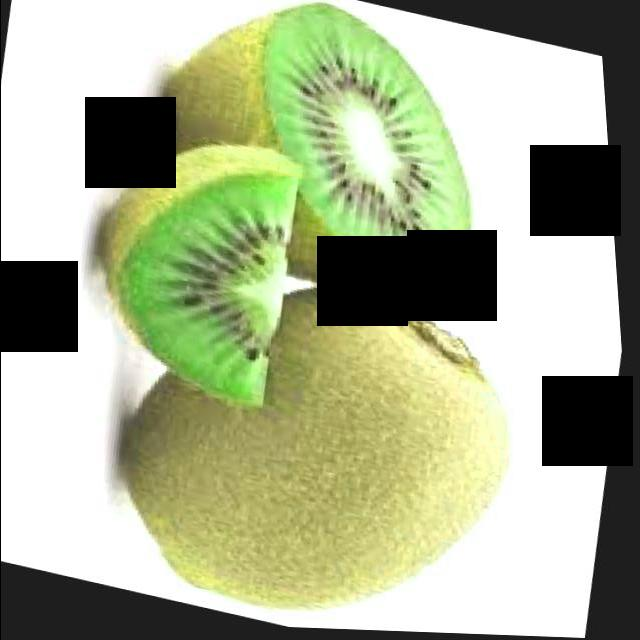kiwi: (80, 237, 552, 639)
